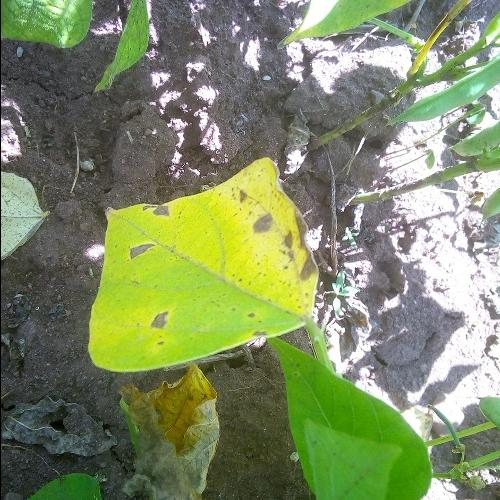hawar: (100, 198, 202, 370)
mozaik: (168, 145, 326, 294)
